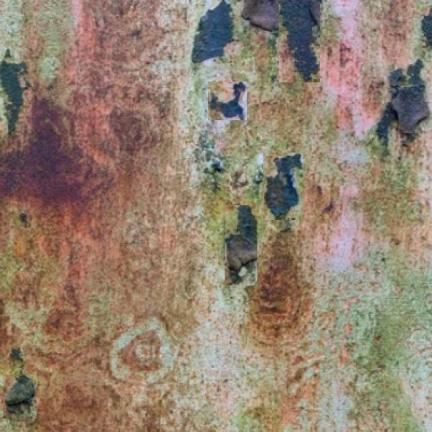karat: (201, 0, 321, 78)
